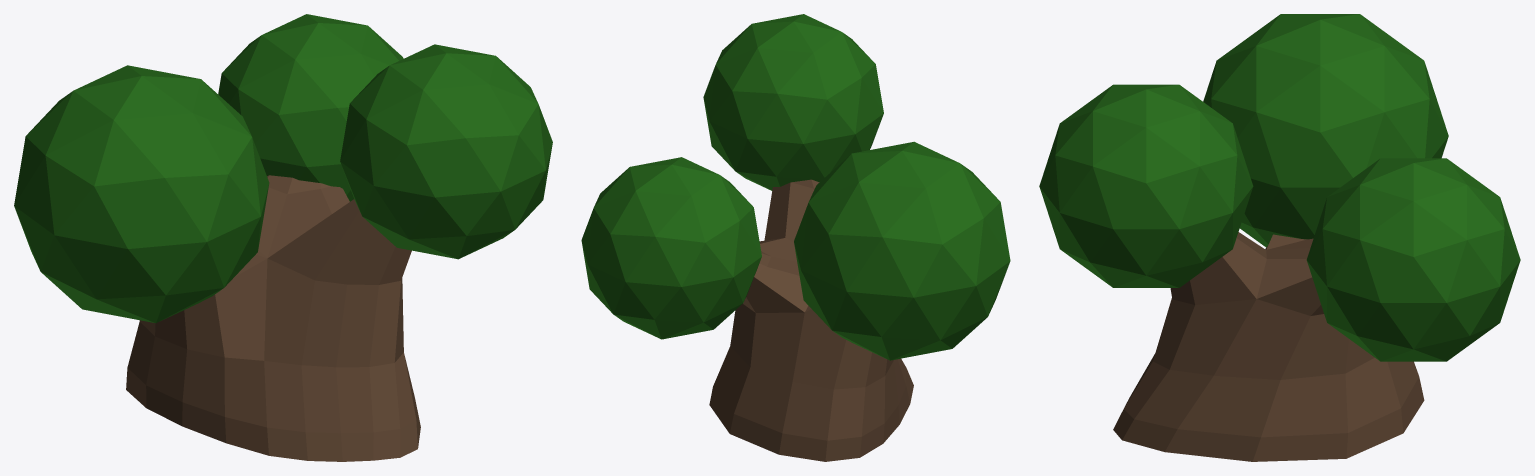
File: Shrub 3.fbx
3 renders of one model, left to right at view 1: azimuth 30°, elevation 25°; view 2: azimuth 150°, elevation 25°; view 3: azimuth 270°, elevation 25°, orthographic. The views are drawn at different scales.
Parts seen in each view (by area): view 1: Shrub 3; view 2: Shrub 3; view 3: Shrub 3.
Boxes of the visible parts, <box> form: Shrub 3: <box>14,14,552,461</box>; Shrub 3: <box>581,14,1010,461</box>; Shrub 3: <box>1039,14,1520,461</box>.
Size of the model in its own units: 115 by 100 by 116.
